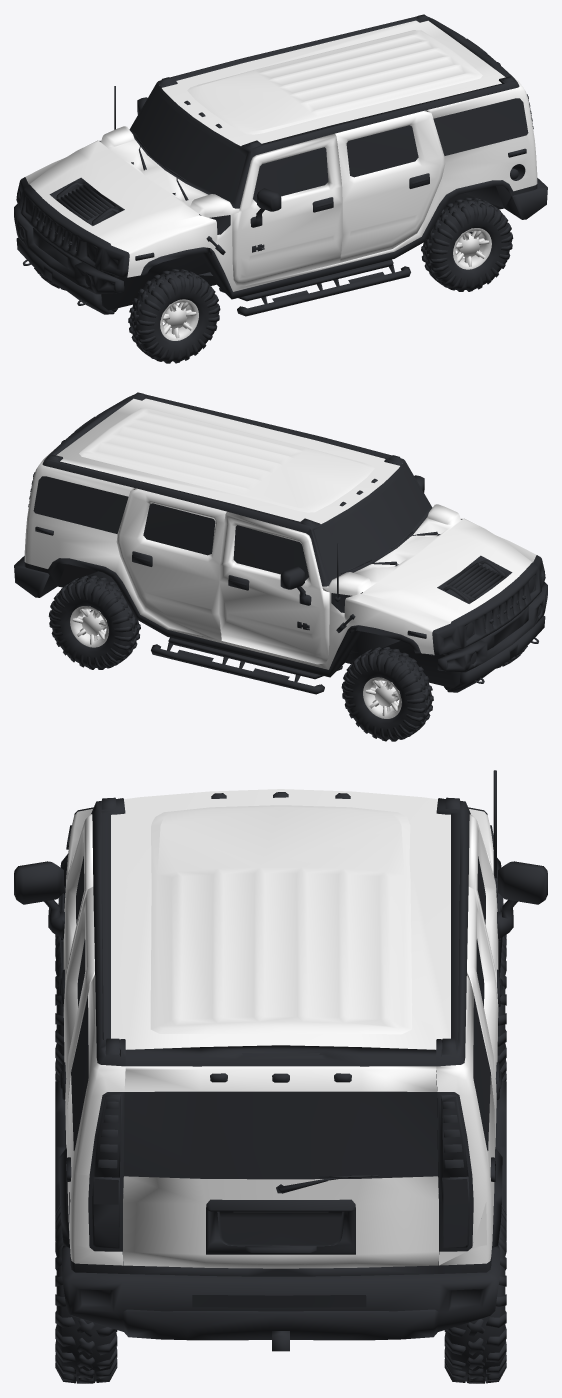
File: regina.glb
The picture shows the model from 3 angles, top to bottom: view 1: azimuth 30°, elevation 25°; view 2: azimuth 150°, elevation 25°; view 3: azimuth 270°, elevation 25°; orthographic projection. The views are drawn at different scales.
Parts seen in each view (by area): view 1: regina; view 2: regina; view 3: regina.
Part boxes in pixels (x1,y1,x2,y2): regina: [14, 14, 547, 363]; regina: [14, 392, 547, 741]; regina: [14, 770, 547, 1383].
Bounding box in the file's own units: 0.5303 × 0.216 × 0.2743.
Materials: 2 (2 with a texture image).
